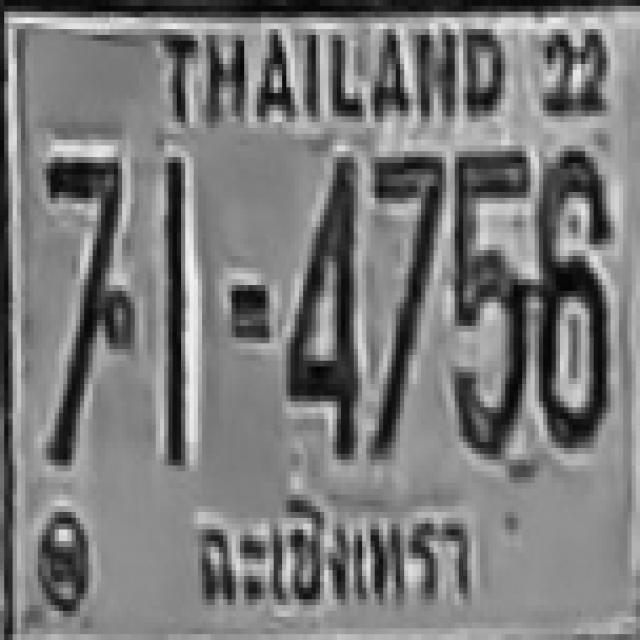1: (160, 157, 185, 407)
4: (282, 151, 354, 454)
5: (448, 145, 528, 454)
6: (532, 146, 608, 442)
7: (42, 151, 126, 454), (371, 148, 442, 451)
Chachoengsao: (185, 487, 482, 623)
